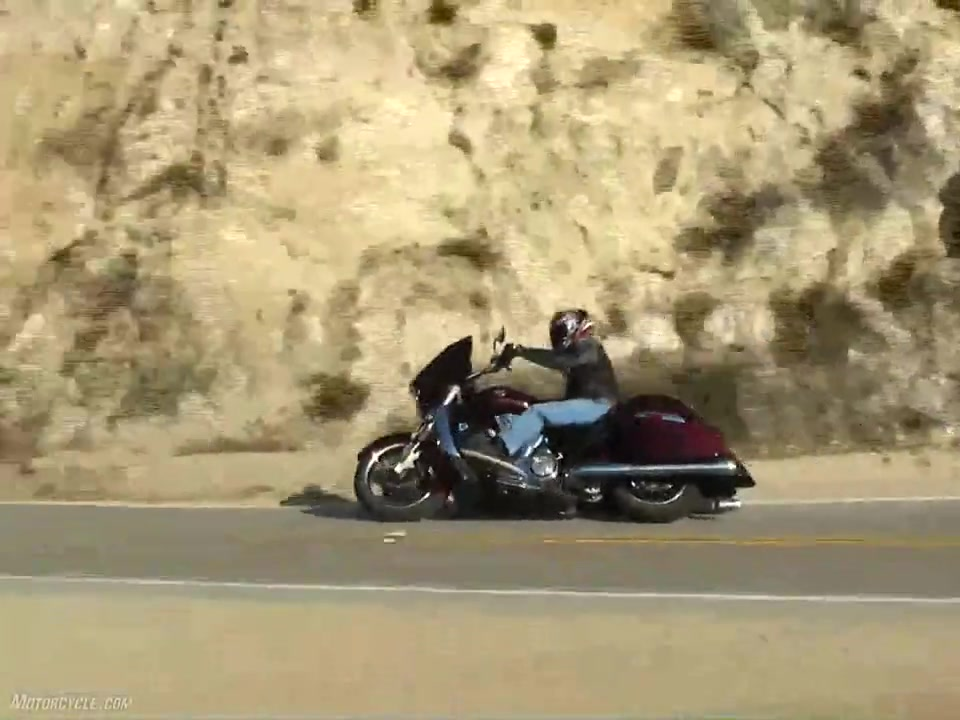motorbike: (355, 328, 757, 524)
